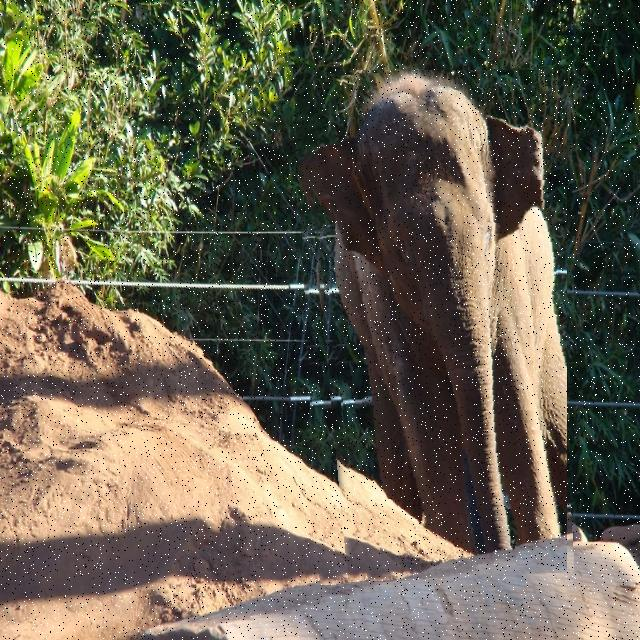elephant: (300, 70, 568, 582)
